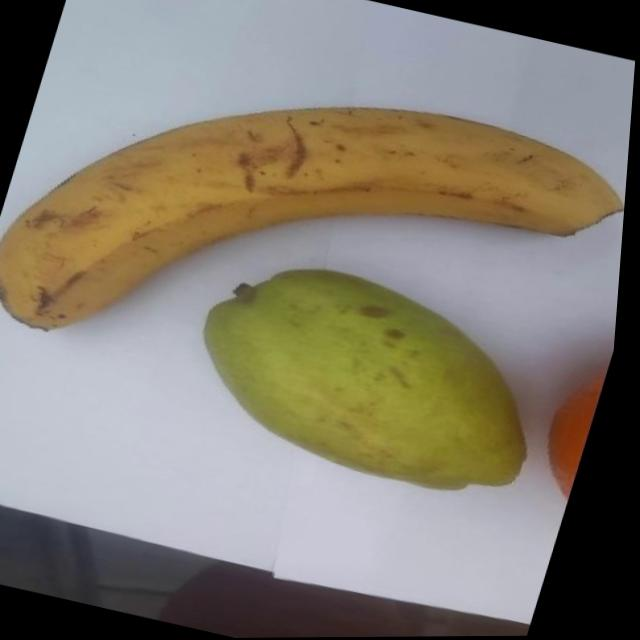Banana: (0, 21, 639, 451)
Orange: (539, 365, 614, 500)
